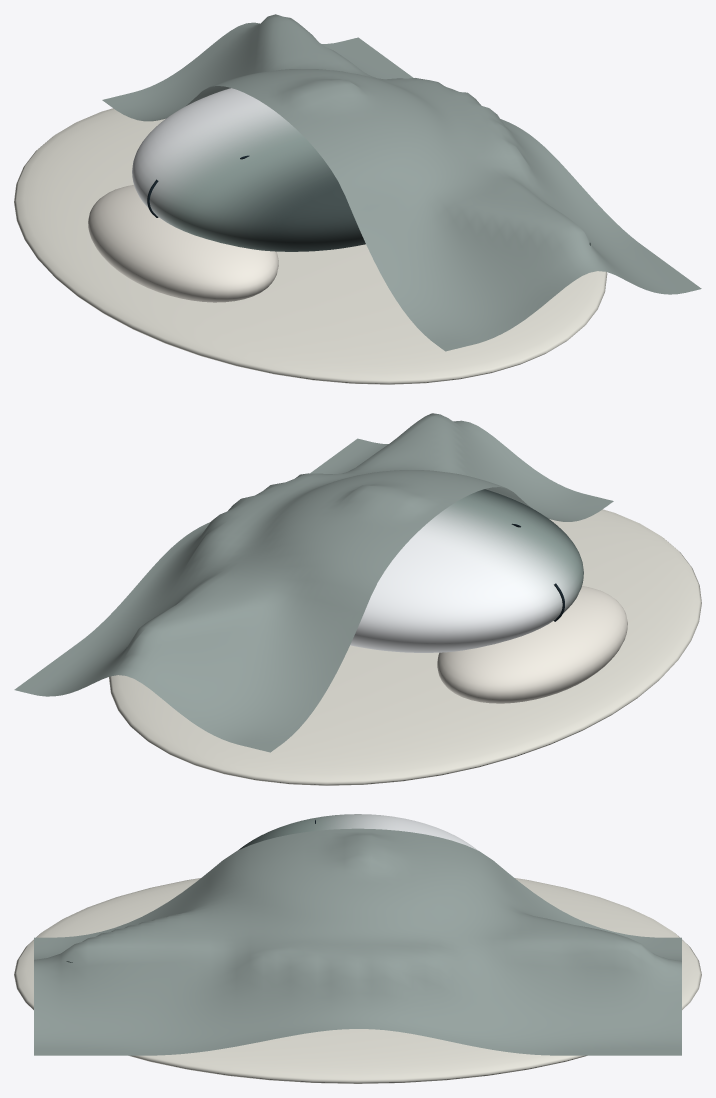
Rendered from covered.glb.
3 renders of one model, top to bottom at view 1: azimuth 30°, elevation 25°; view 2: azimuth 150°, elevation 25°; view 3: azimuth 270°, elevation 25°, orthographic. The views are drawn at different scales.
Visible parts, largest first — view 1: KiabouBlanket, KiabouBed, KiabouRestBody, KiabouPillow; view 2: KiabouBlanket, KiabouBed, KiabouRestBody, KiabouPillow; view 3: KiabouBlanket, KiabouBed, KiabouRestBody.
Part boxes in pixels (box(x1,y1,x2,y2)): KiabouBlanket: box(102, 14, 701, 351); KiabouBed: box(14, 108, 607, 384); KiabouRestBody: box(132, 88, 590, 251); KiabouPillow: box(88, 185, 278, 302); KiabouBlanket: box(14, 413, 613, 752); KiabouBed: box(109, 509, 701, 785); KiabouRestBody: box(350, 489, 583, 652); KiabouPillow: box(437, 586, 627, 703); KiabouBlanket: box(34, 828, 681, 1055); KiabouBed: box(14, 878, 701, 1083); KiabouRestBody: box(66, 814, 477, 962).
Size of the model in its own units: 0.228 by 0.0768 by 0.308.
7 materials, 3 textured.
